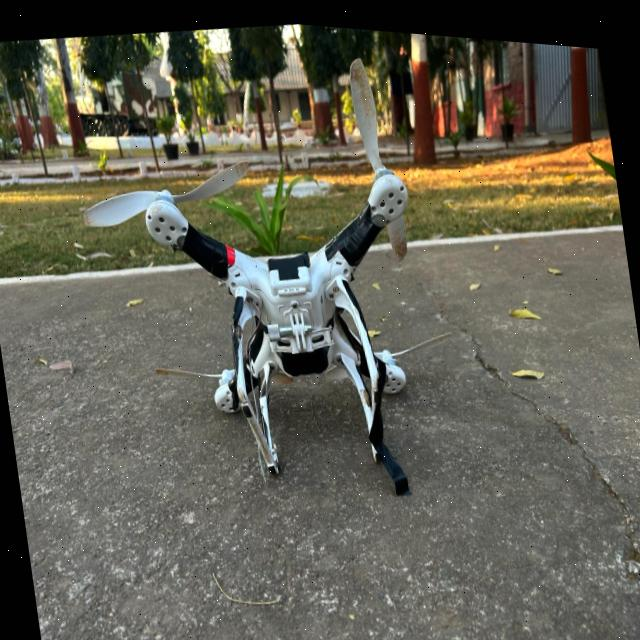drone: (45, 73, 528, 570)
